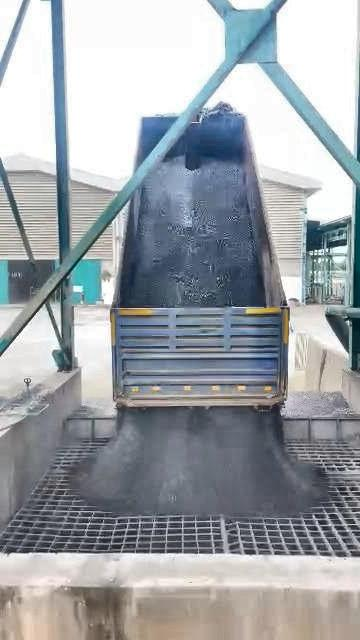gravel: (72, 408, 328, 515), (121, 156, 264, 307), (283, 391, 354, 417)
